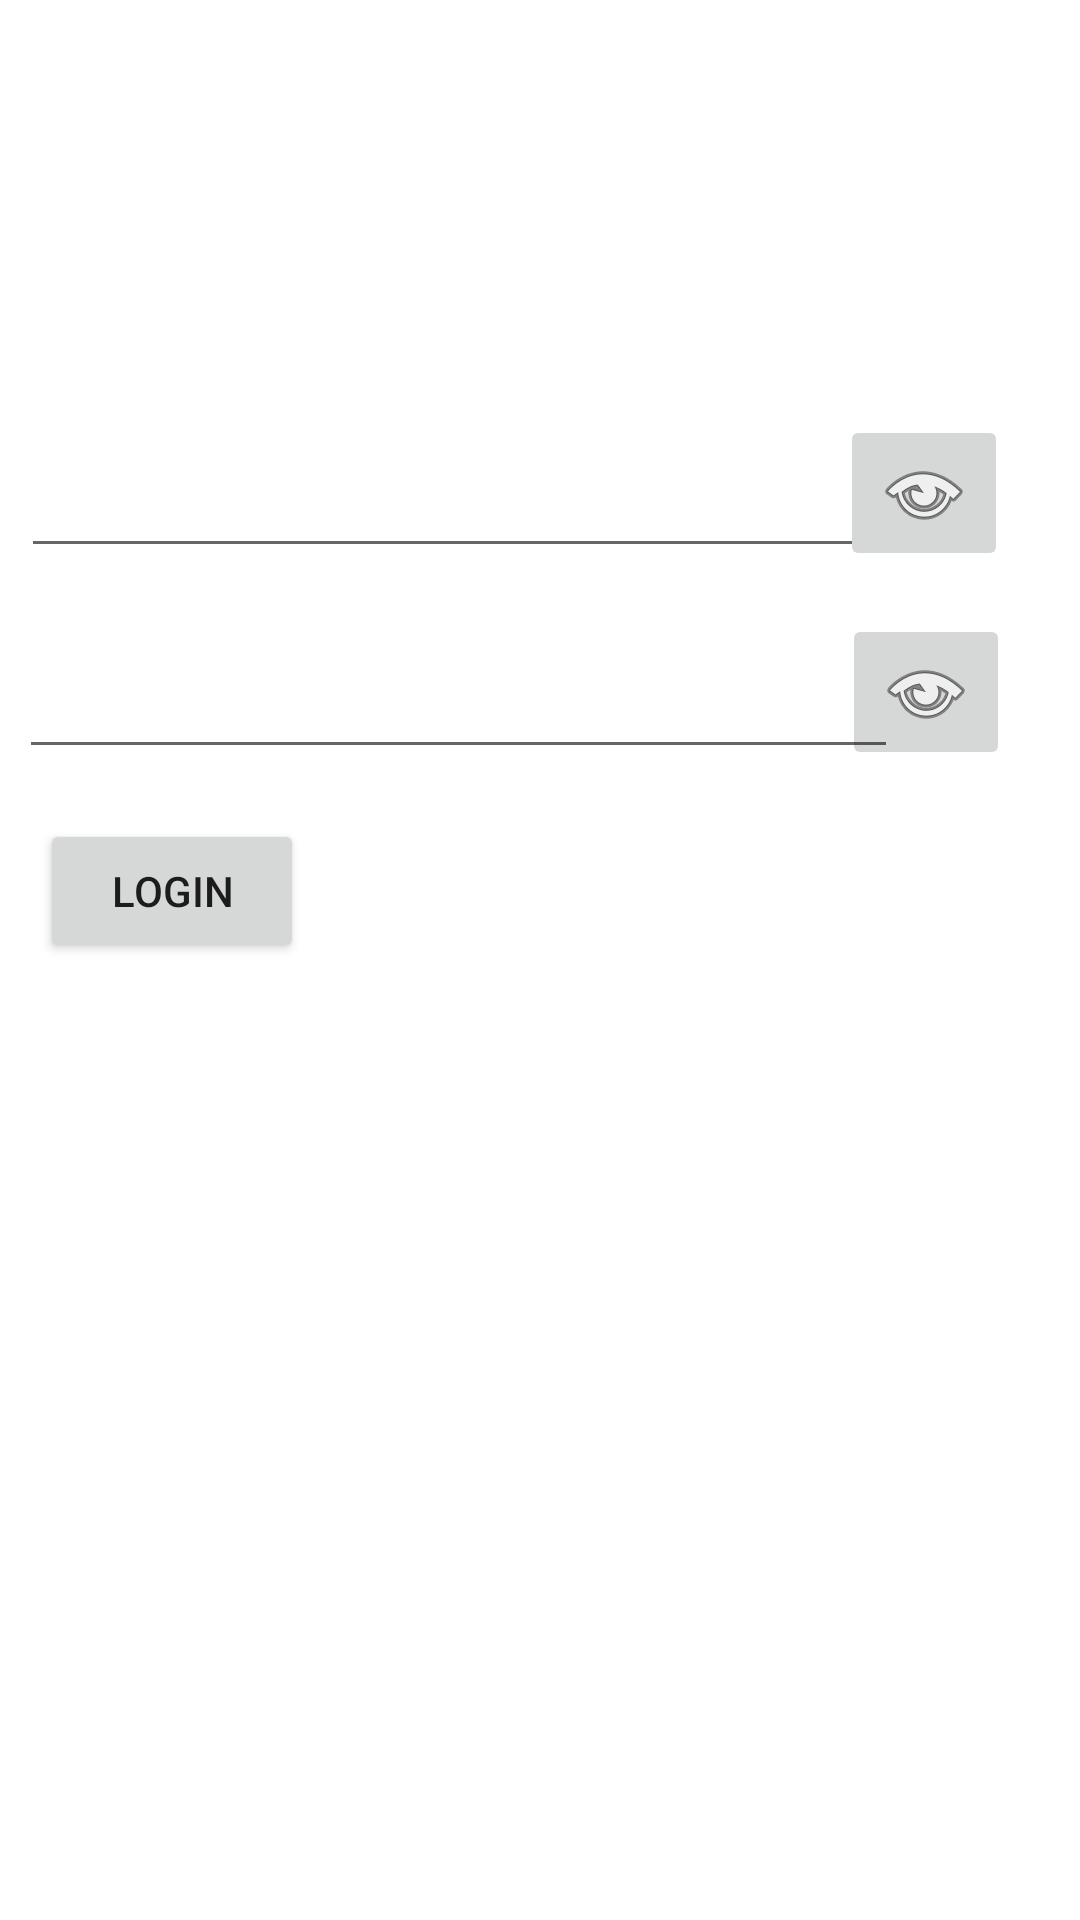

Named icons in this screenshot (1080*1920) and their bounding boxes, (x1, y1, x2, y2):
view: (840, 433, 996, 553), (842, 632, 998, 752)
